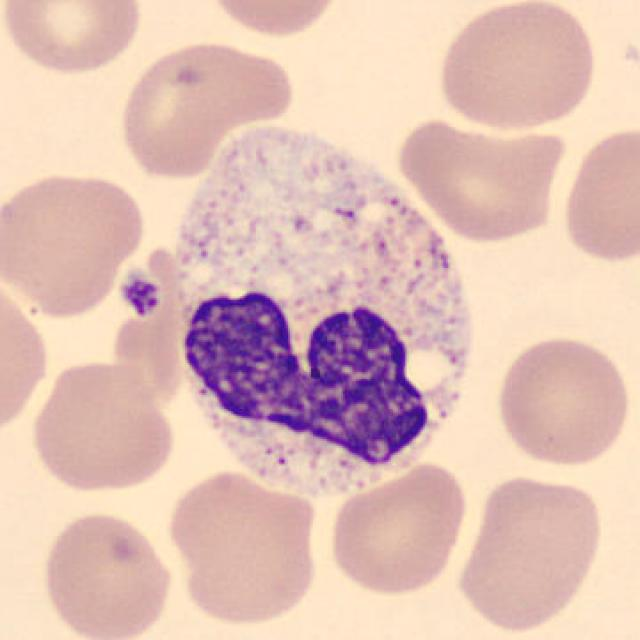Neutrophil: (167, 113, 478, 508)
Platelets: (117, 270, 162, 319)
RBC: (114, 35, 297, 180), (164, 466, 324, 630), (452, 469, 608, 636), (393, 113, 569, 245), (432, 0, 601, 134), (0, 166, 148, 319), (27, 356, 180, 497), (325, 458, 471, 598), (491, 330, 633, 470), (37, 508, 176, 640), (558, 120, 640, 268), (0, 0, 148, 78), (0, 271, 53, 440), (201, 0, 348, 41)
